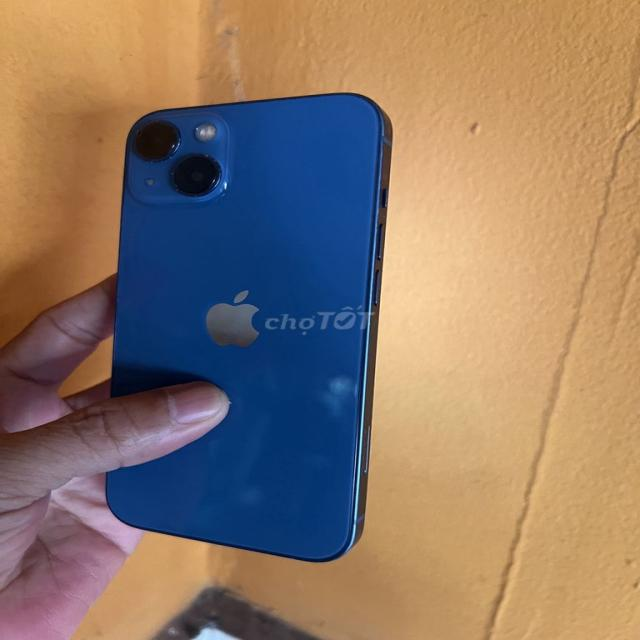gen_12_13: (96, 91, 395, 568)
